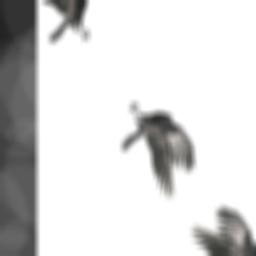Crow: (105, 80, 208, 209)
